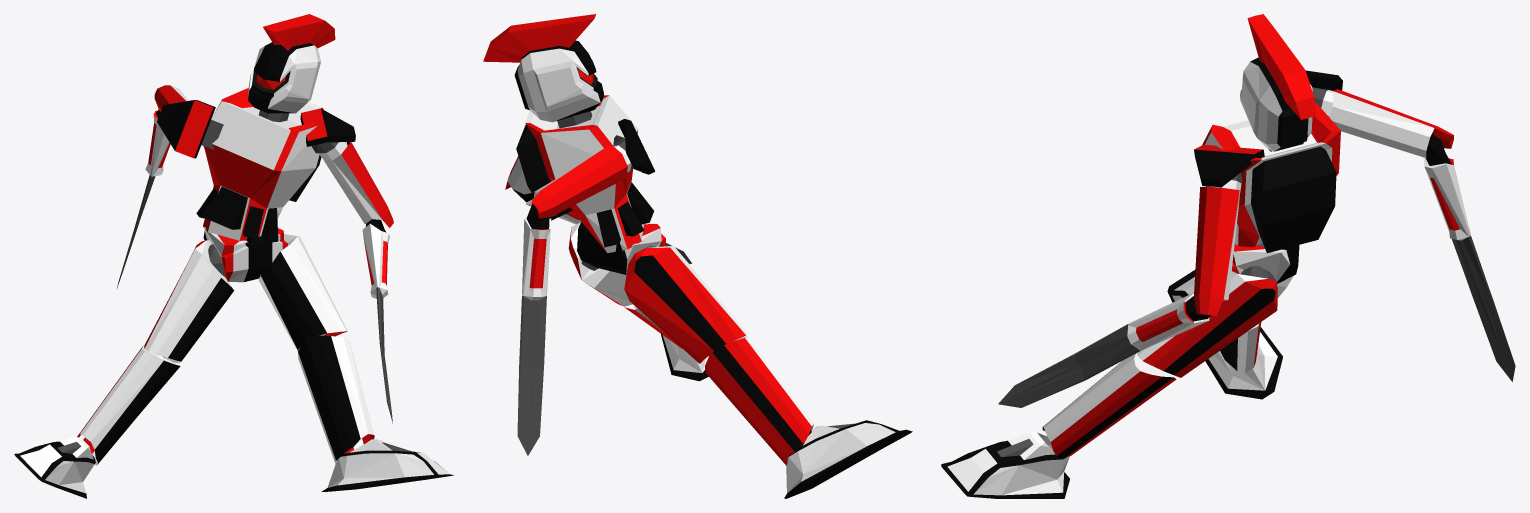
Rendered from robots_000004.obj.
3 renders of one model, left to right at view 1: azimuth 30°, elevation 25°; view 2: azimuth 150°, elevation 25°; view 3: azimuth 270°, elevation 25°, orthographic. The views are drawn at different scales.
Parts seen in each view (by area): view 1: Chest_plate_Cube.004, Head_gladiator_Cube.024, R_Shin.002_Cube.029, R_Thigh.002_Cube.027, R_Thigh_Cube.005, R_Forearm.002_Cube.033, R_Shin_Cube.007, R_Foot.002_Cube.035, R_Foot_Cube, R_Arm.002_Cube.032, Pelvis_Cube.006, R_Arm.003_Cube.034 (+1 smaller); view 2: R_Forearm.001_Cube.028, Chest_plate_Cube.004, Head_gladiator_Cube.024, R_Thigh_Cube.005, R_Shin_Cube.007, R_Foot_Cube, Pelvis_Cube.006, R_Thigh.002_Cube.027, R_Arm.002_Cube.032, R_Foot.002_Cube.035, R_Forearm.002_Cube.033; view 3: Chest_plate_Cube.004, R_Forearm.002_Cube.033, R_Forearm.001_Cube.028, Head_gladiator_Cube.024, R_Foot.002_Cube.035, R_Shin.002_Cube.029, R_Thigh.002_Cube.027, R_Foot_Cube, R_Arm.003_Cube.034, Pelvis_Cube.006, R_Shin_Cube.007, R_Arm.002_Cube.032.
Part boxes in pixels (box(x1,y1,x2,y2)): Chest_plate_Cube.004: box(196, 88, 323, 242); Head_gladiator_Cube.024: box(248, 14, 335, 113); R_Shin.002_Cube.029: box(298, 335, 374, 463); R_Thigh.002_Cube.027: box(258, 234, 347, 351); R_Thigh_Cube.005: box(144, 240, 234, 363); R_Forearm.002_Cube.033: box(323, 142, 393, 423); R_Shin_Cube.007: box(77, 345, 180, 465); R_Foot.002_Cube.035: box(321, 439, 453, 491); R_Foot_Cube: box(14, 437, 95, 498); R_Arm.002_Cube.032: box(157, 100, 223, 158); Pelvis_Cube.006: box(203, 227, 287, 282); R_Arm.003_Cube.034: box(300, 108, 355, 160); R_Forearm.001_Cube.028: box(517, 144, 627, 455); Chest_plate_Cube.004: box(516, 95, 653, 252); Head_gladiator_Cube.024: box(483, 14, 603, 122); R_Thigh_Cube.005: box(624, 245, 748, 363); R_Shin_Cube.007: box(704, 336, 813, 465); R_Foot_Cube: box(784, 420, 912, 498); Pelvis_Cube.006: box(577, 222, 665, 274); R_Thigh.002_Cube.027: box(568, 222, 632, 306); R_Arm.002_Cube.032: box(612, 119, 655, 174); R_Foot.002_Cube.035: box(661, 334, 708, 381); R_Forearm.002_Cube.033: box(505, 156, 691, 264); Chest_plate_Cube.004: box(1202, 103, 1340, 253); R_Forearm.002_Cube.033: box(998, 186, 1239, 407); R_Forearm.001_Cube.028: box(1329, 89, 1515, 381); Head_gladiator_Cube.024: box(1240, 14, 1315, 151); R_Foot.002_Cube.035: box(941, 432, 1069, 498); R_Shin.002_Cube.029: box(1042, 353, 1176, 458); R_Thigh.002_Cube.027: box(1137, 271, 1277, 377); R_Foot_Cube: box(1167, 270, 1282, 399); R_Arm.003_Cube.034: box(1194, 144, 1264, 194); Pelvis_Cube.006: box(1231, 244, 1299, 283); R_Shin_Cube.007: box(1220, 322, 1261, 372); R_Arm.002_Cube.032: box(1305, 70, 1342, 117).
Size of the model in its own units: 2.71 by 2.83 by 2.99.
